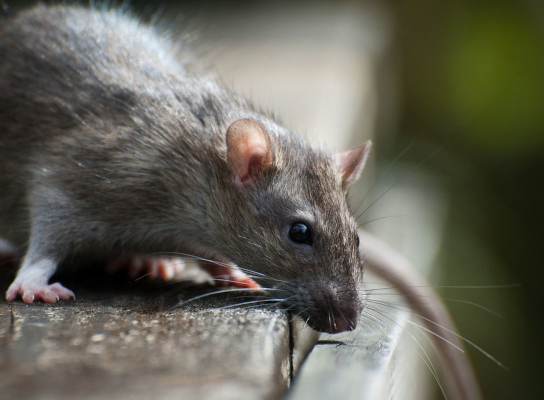rat: (5, 4, 392, 342)
